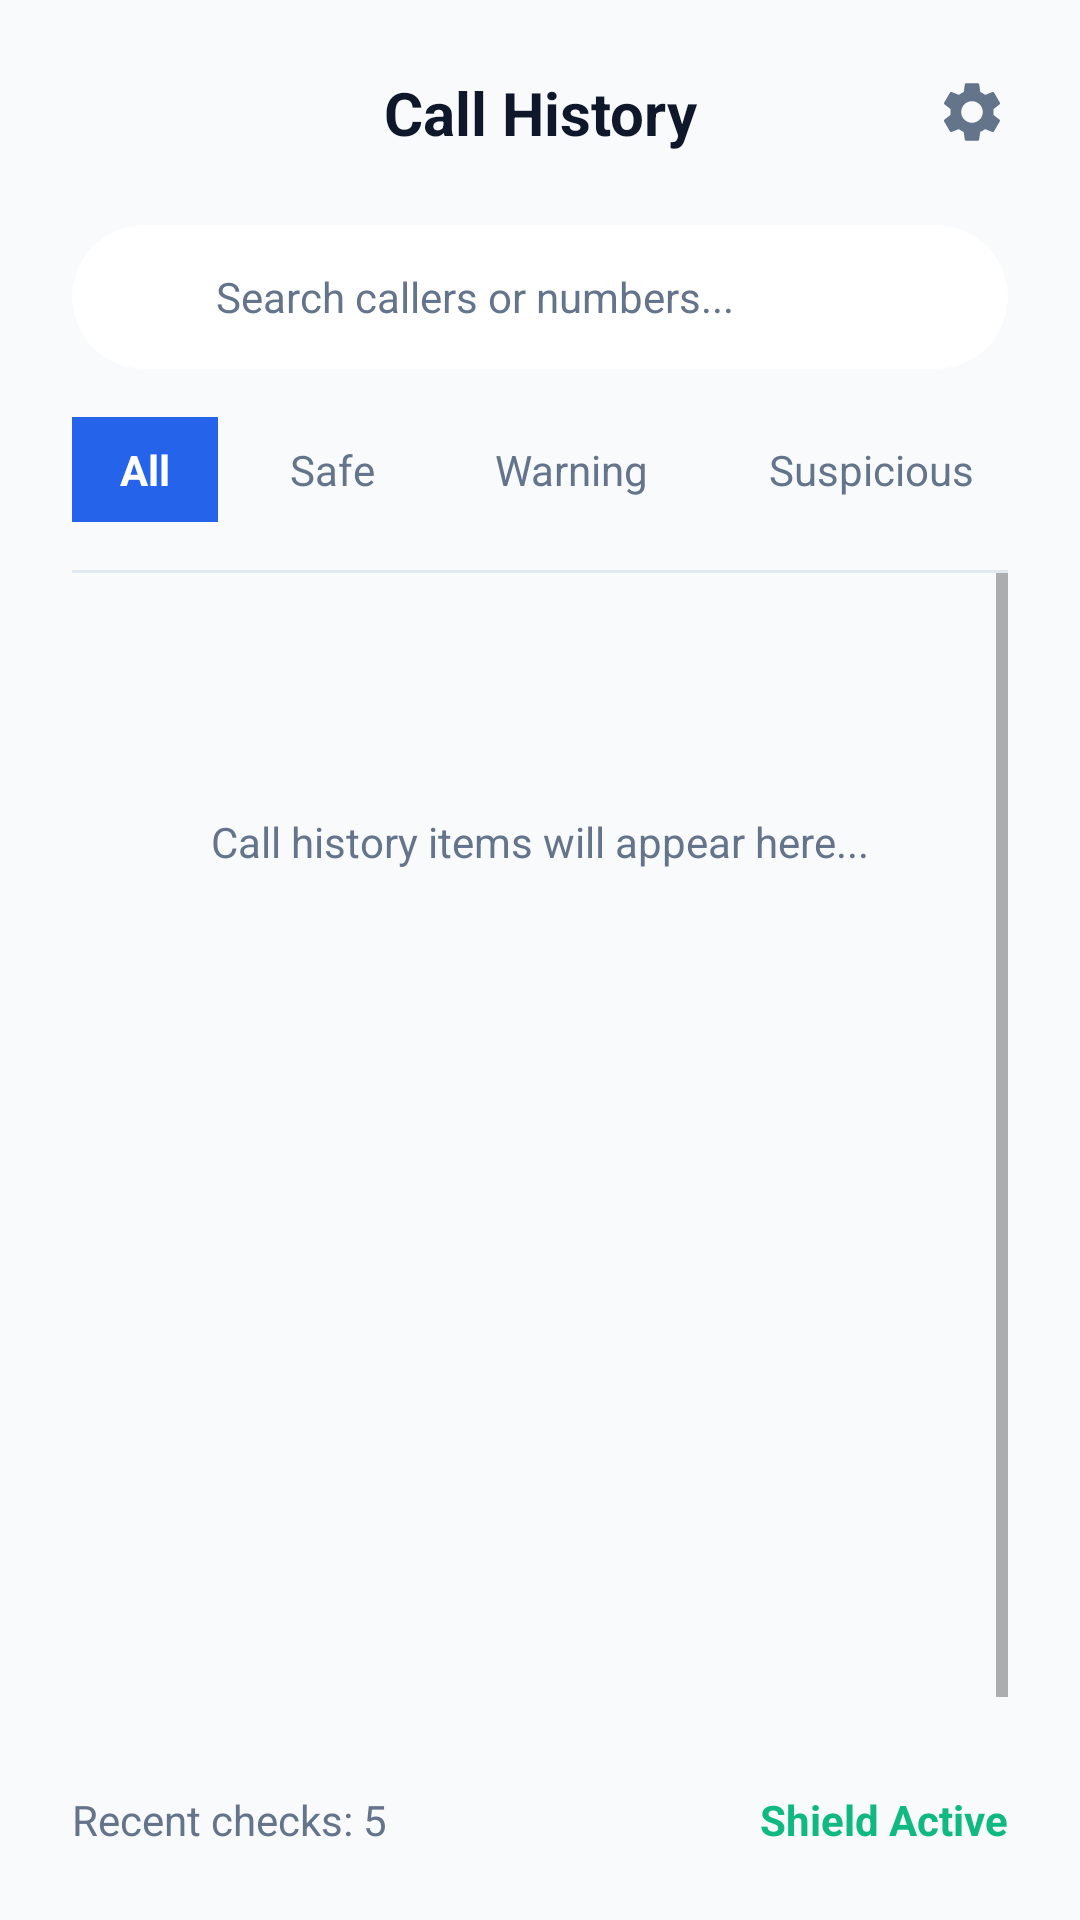

Screen size 1080px×1920px. Icon name, then its center in pixels as [x,y]:
settings: [972,112]
